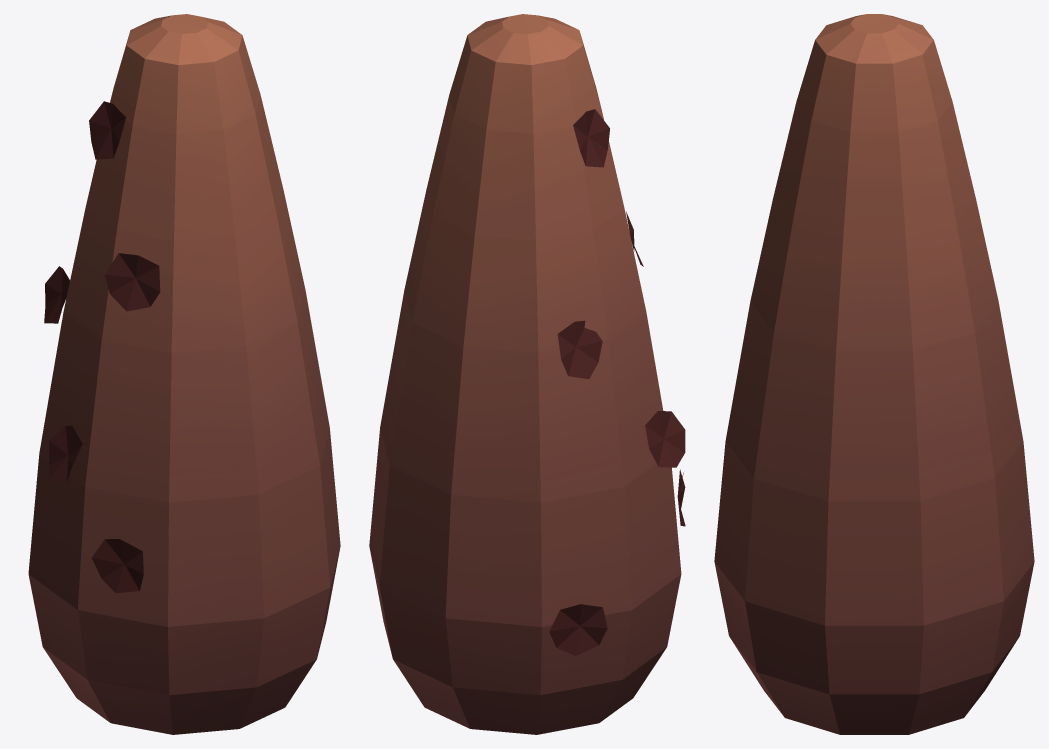
The model's file is Cone Bush.fbx.
3 renders of one model, left to right at view 1: azimuth 30°, elevation 25°; view 2: azimuth 150°, elevation 25°; view 3: azimuth 270°, elevation 25°, orthographic.
Parts seen in each view (by area): view 1: Cone Bush, Plane.014, Plane.016, Plane.015, Plane.013, Plane.010; view 2: Cone Bush, Plane.012, Plane.010, Plane.013, Plane.015; view 3: Cone Bush.
Boxes of the visible parts, x1,y1,x2,y2 form: Cone Bush: [28, 14, 340, 734]; Plane.014: [105, 253, 160, 311]; Plane.016: [92, 539, 143, 593]; Plane.015: [89, 101, 125, 159]; Plane.013: [49, 425, 82, 483]; Plane.010: [44, 266, 69, 323]; Cone Bush: [369, 14, 681, 734]; Plane.012: [549, 604, 607, 655]; Plane.010: [557, 320, 602, 379]; Plane.013: [645, 411, 685, 467]; Plane.015: [573, 109, 609, 167]; Cone Bush: [714, 14, 1034, 734].
Bounding box in the file's own units: 107 × 248 × 108.
